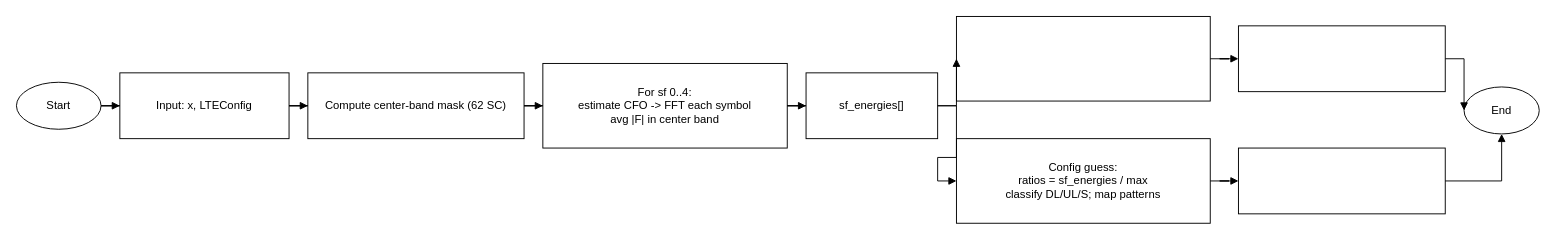
Some shapes in this 1556 by 240 pixel diagram are drawn without their labels. The centre of each missing label's shape, as x and y in pixels:
"Output: TDD_ConfigIndex + ratios" goes at point 1341,180.
"Output: TDD_SpecialSubframe1 + ratio" goes at point 1341,58.
"Special SF detector: ratio = sf1 / max(sf0,2,3,4) is_special if 0.15..0.7" goes at point 1083,58.
